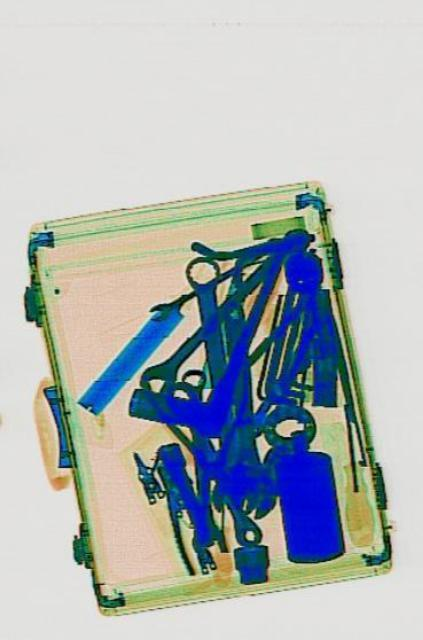Pliers: (145, 428, 224, 580)
Wrench: (133, 216, 314, 410), (181, 251, 248, 501), (210, 294, 273, 520), (172, 365, 223, 555), (146, 259, 235, 323)
